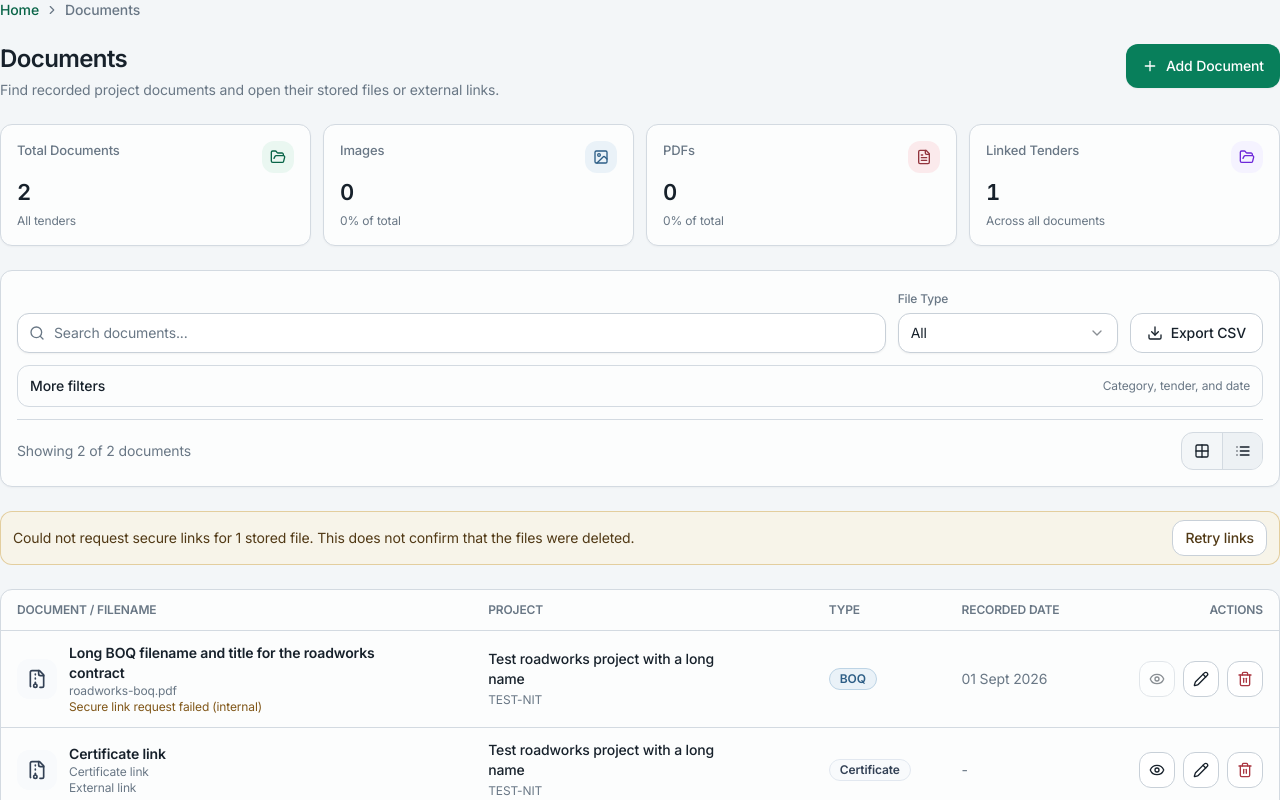
Scenario: Documents workflows on disposable records › reports a secure-link service failure without claiming the stored file was deleted and allows retry
Expected: the text "Secure link request failed (internal)" is shown, [69, 698, 262, 714]
Expected: the text "does not confirm that the files were deleted" is shown, [310, 528, 634, 546]
Click the button "Retry links". click: {"x": 1220, "y": 538}
box: [1172, 520, 1267, 556]
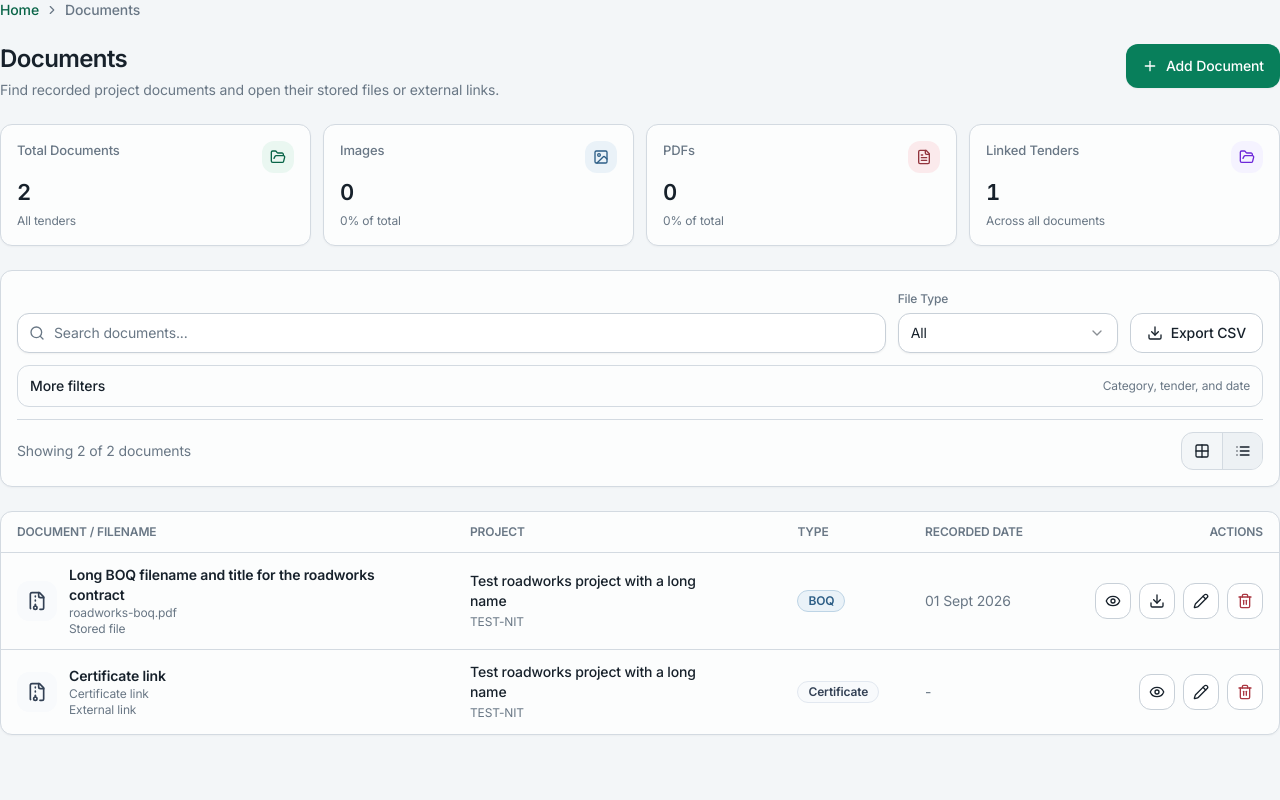
Expected: the link named "Download document" is shown, [1139, 582, 1175, 618]
